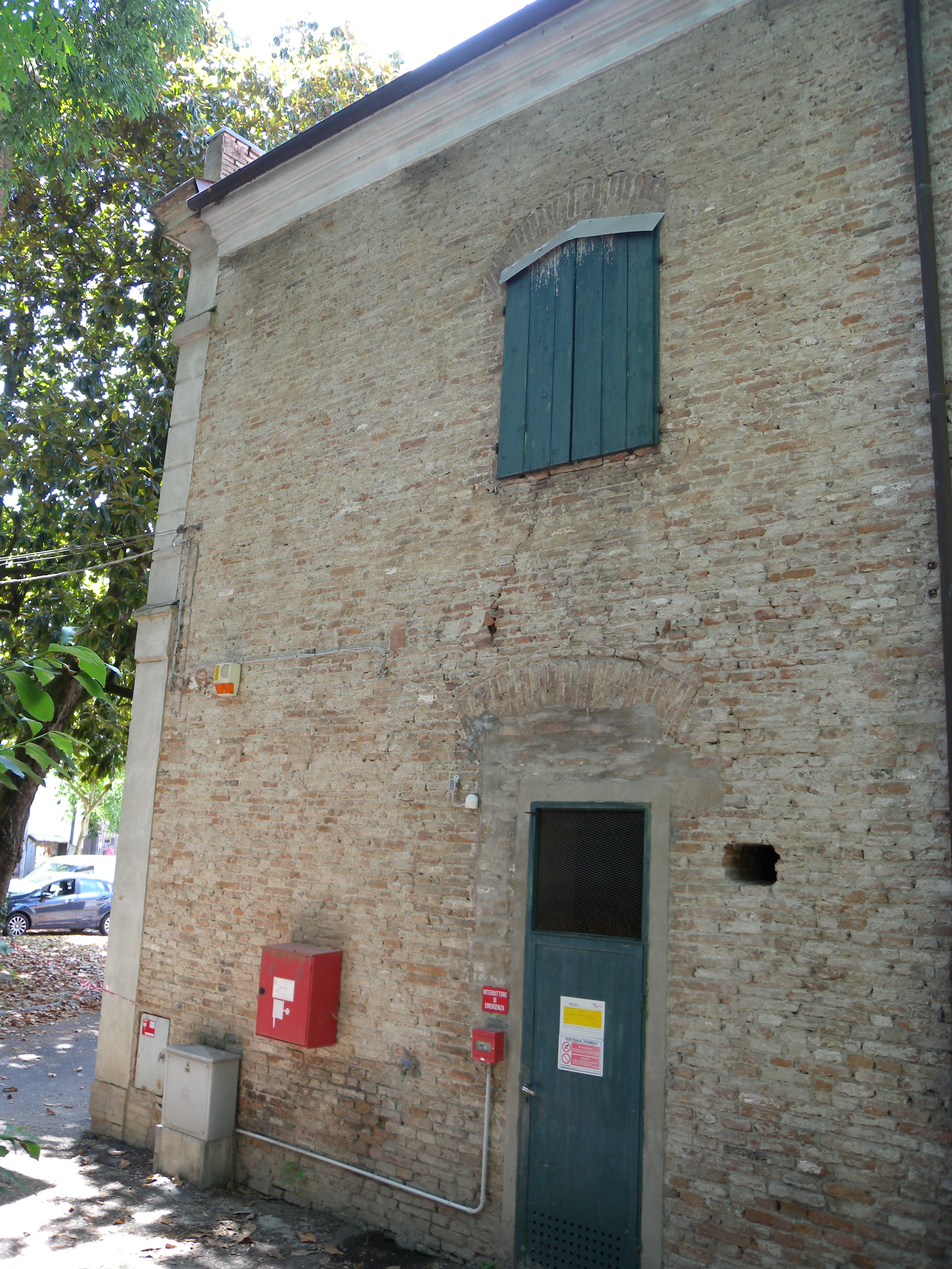Crack: (466, 459, 696, 667)
